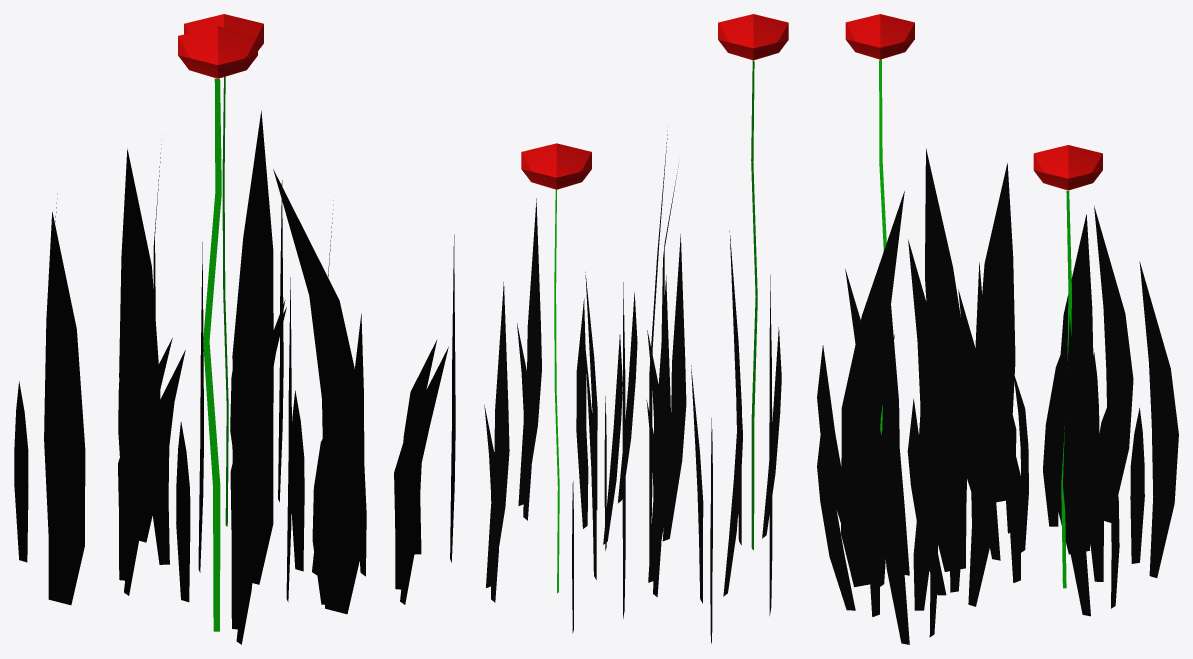
File: SM_Plant_Grass_Simple_02.fbx
The picture shows the model from 3 angles, left to right: view 1: azimuth 30°, elevation 25°; view 2: azimuth 150°, elevation 25°; view 3: azimuth 270°, elevation 25°; orthographic projection. The views are drawn at different scales.
Parts seen in each view (by area): view 1: SM_Plant_Grass_Simple_02; view 2: SM_Plant_Grass_Simple_02; view 3: SM_Plant_Grass_Simple_02.
Boxes of the visible parts, bbox=[...] form: SM_Plant_Grass_Simple_02: bbox=[14, 14, 455, 644]; SM_Plant_Grass_Simple_02: bbox=[484, 14, 788, 643]; SM_Plant_Grass_Simple_02: bbox=[817, 14, 1178, 644].
Size of the model in its own units: 47.32 by 76.86 by 49.56.
